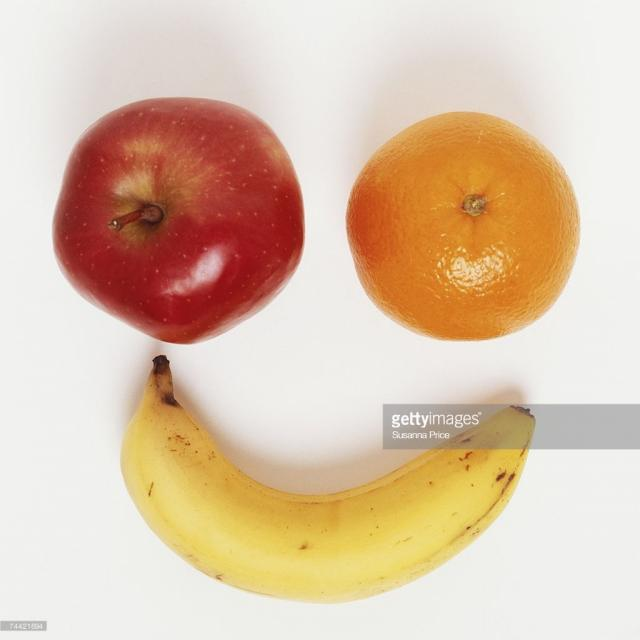apple: (48, 95, 308, 345)
banana: (121, 354, 538, 606)
orange: (343, 107, 586, 340)
